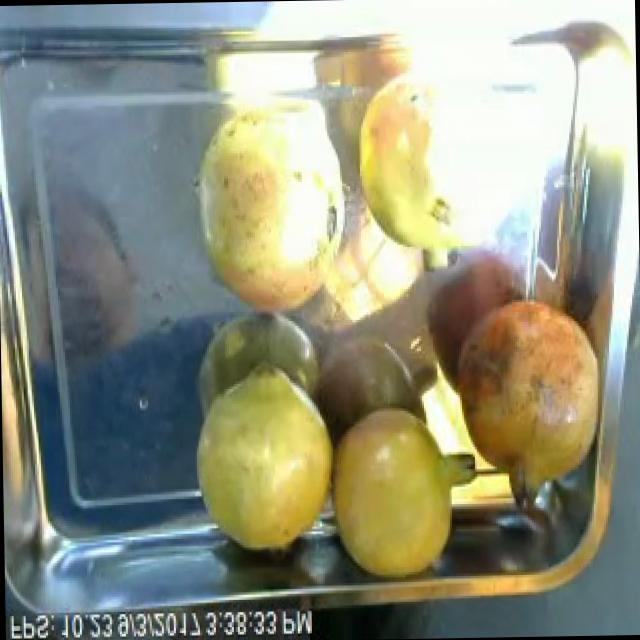fruit: (176, 84, 360, 322), (442, 278, 618, 507), (342, 51, 512, 280), (319, 387, 496, 590), (186, 350, 342, 560)
